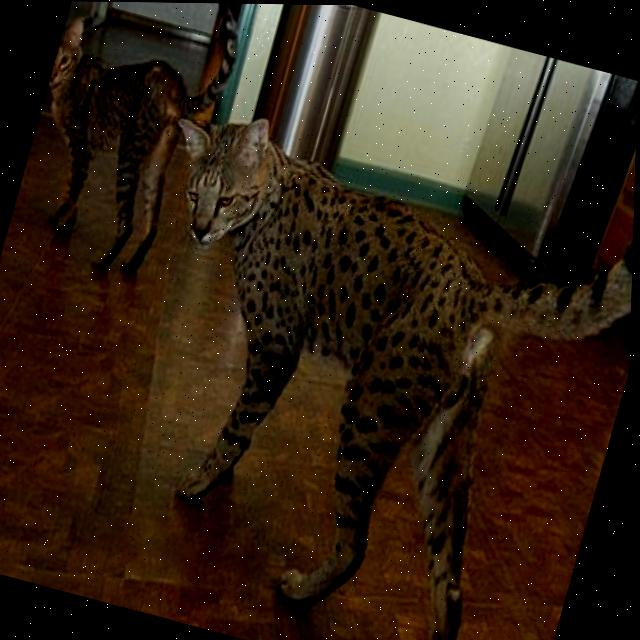Savannah: (49, 1, 640, 640), (1, 0, 254, 292)
